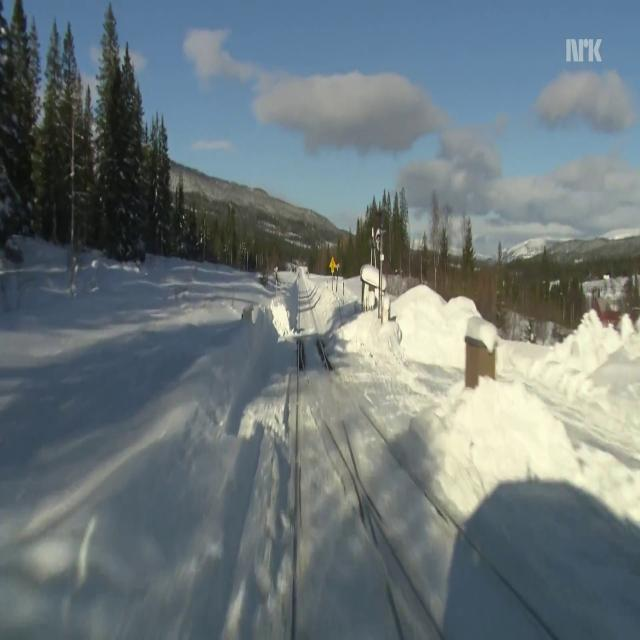rail-track: (328, 364, 551, 639), (297, 359, 399, 639), (300, 272, 355, 474)
